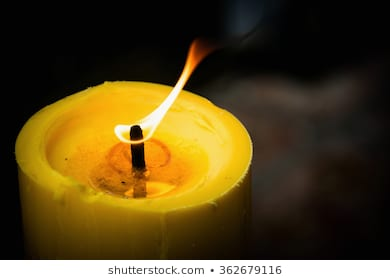Fire: (113, 34, 212, 147)
